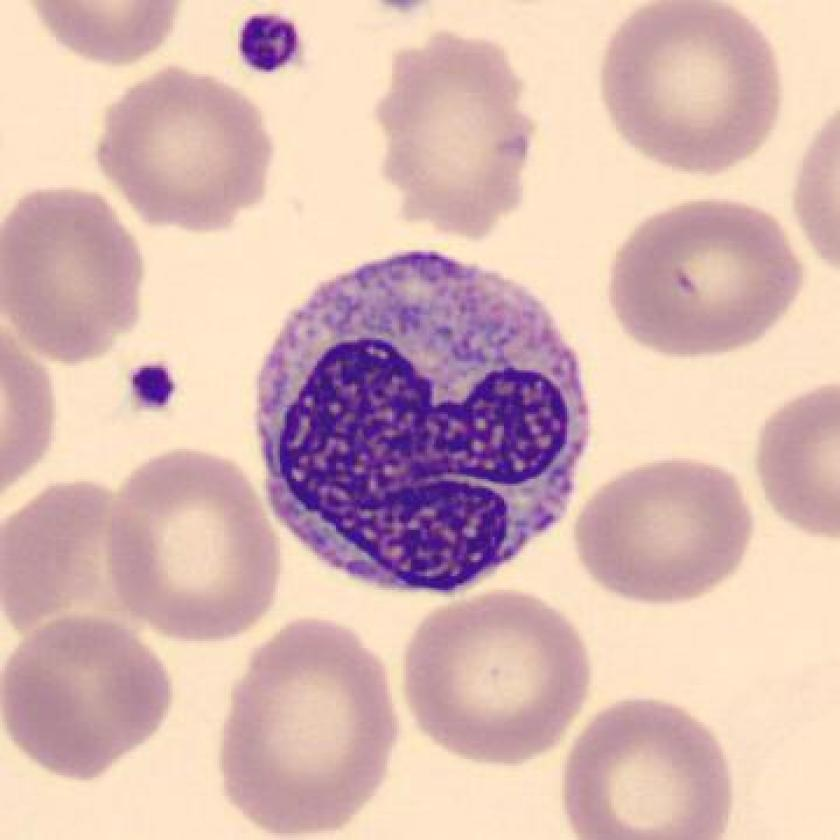monocyte: (234, 233, 608, 617)
